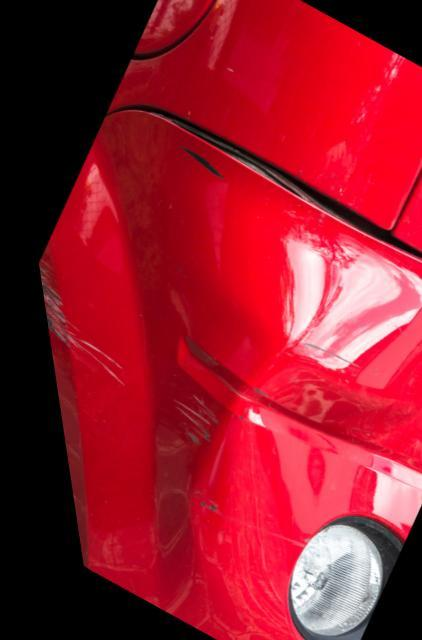dent: (186, 308, 422, 573)
scratch: (31, 254, 112, 386), (158, 389, 206, 447), (174, 143, 218, 179)
